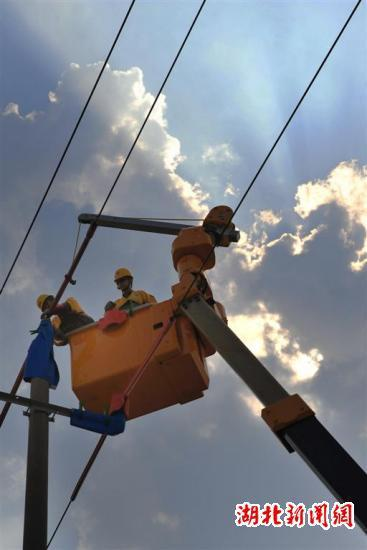helmet: (33, 292, 67, 315), (113, 266, 136, 294)
